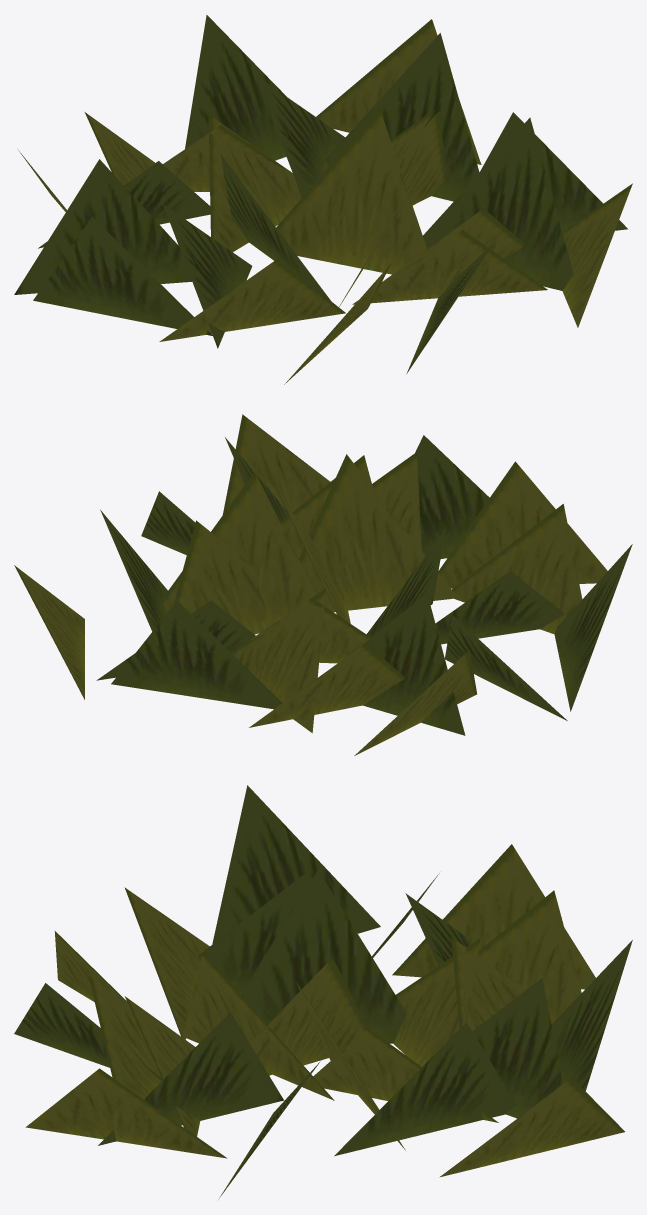
Rendered from dec_Ground_Grass_05_50777.glb.
The picture shows the model from 3 angles, top to bottom: view 1: azimuth 30°, elevation 25°; view 2: azimuth 150°, elevation 25°; view 3: azimuth 270°, elevation 25°; orthographic projection. The views are drawn at different scales.
Parts seen in each view (by area): view 1: Ground_Grass_05_mesh; view 2: Ground_Grass_05_mesh; view 3: Ground_Grass_05_mesh.
Part boxes in pixels (x1,y1,x2,y2): Ground_Grass_05_mesh: (14,15,632,384); Ground_Grass_05_mesh: (14,414,632,755); Ground_Grass_05_mesh: (14,785,632,1199).
Bounding box in the file's own units: 1.13 × 0.2652 × 1.06.
1 material, 1 textured.
